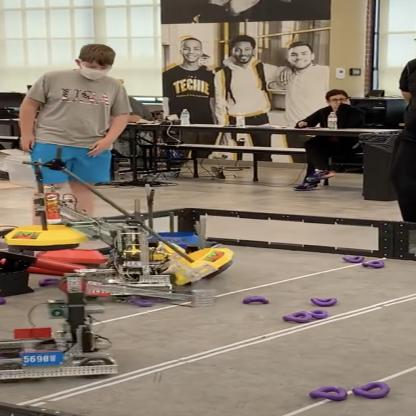ring: (308, 384, 347, 401), (352, 382, 389, 398), (282, 311, 310, 323), (241, 295, 268, 304), (36, 276, 60, 286), (310, 297, 336, 306), (302, 310, 327, 318), (131, 299, 154, 307), (362, 260, 384, 268), (341, 256, 364, 262), (0, 296, 6, 306)
